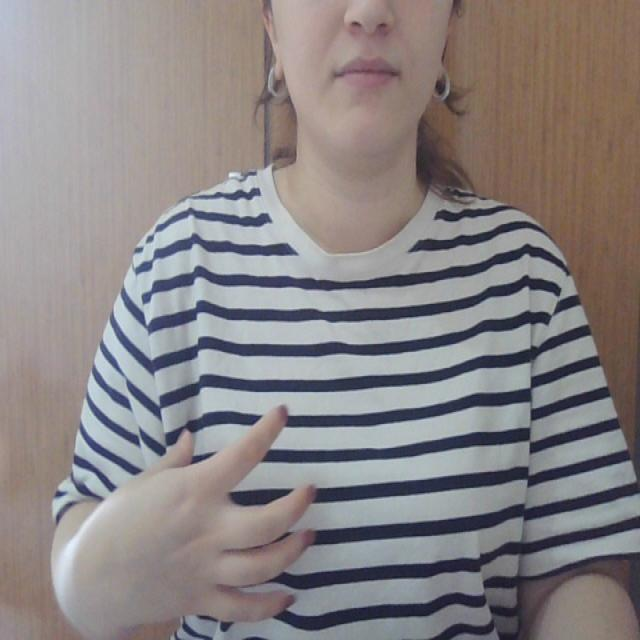Anne: (95, 411, 523, 629)
